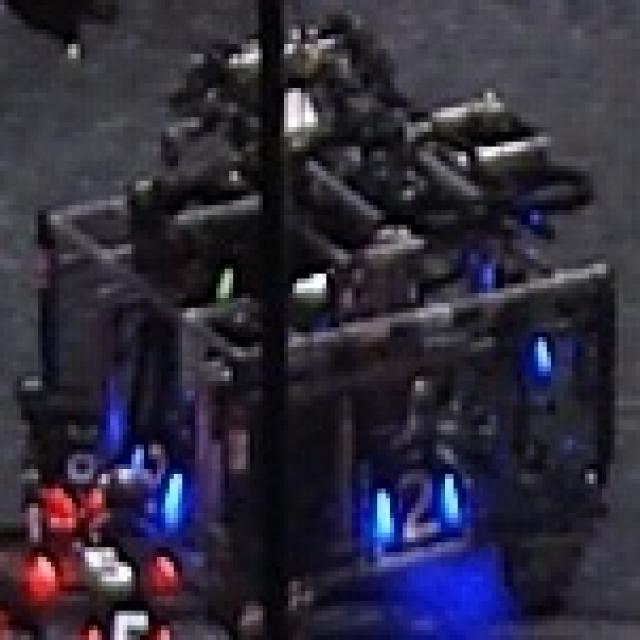B2: (369, 459, 462, 552), (127, 425, 187, 523)
R5: (30, 537, 178, 596)
